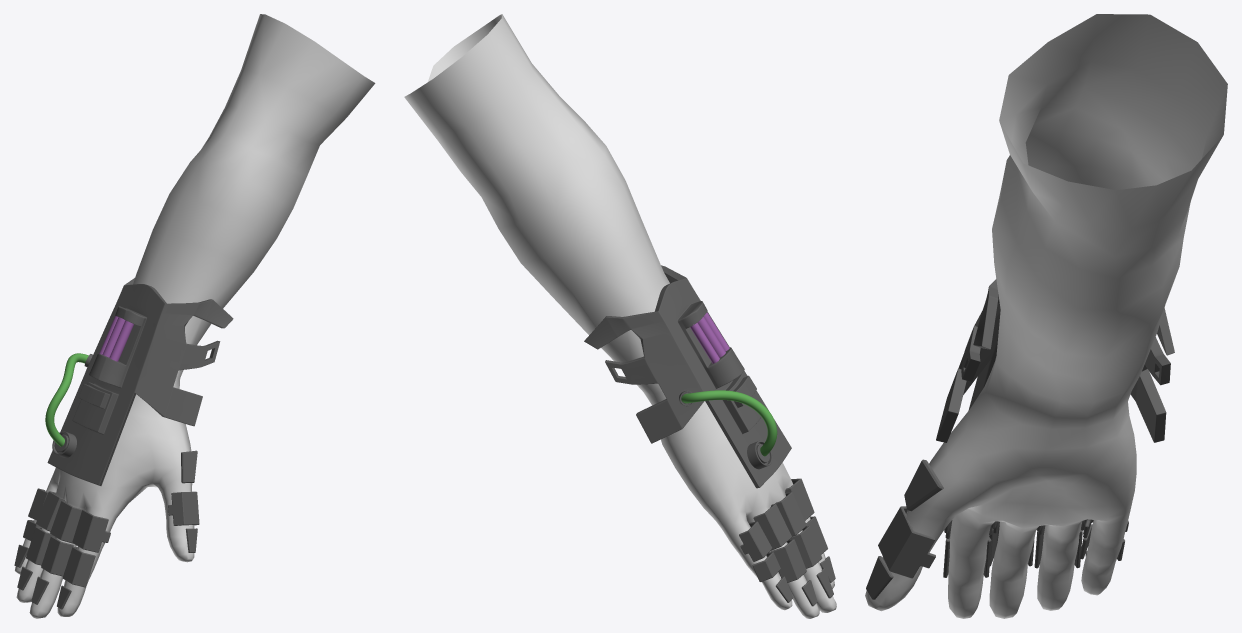
The model's file is Scifi_Glove.fbx.
3 views of the same model, side by side, from view 1: azimuth 30°, elevation 25°; view 2: azimuth 150°, elevation 25°; view 3: azimuth 270°, elevation 25° (orthographic). The views are drawn at different scales.
Visible parts, largest first — view 1: Hand_Base, Wrist_Plate, pPlane1, Tube1, pPlane5, pPlane6, pPlane2, pPlane7, pPlane8, pPlane3, pPlane15; view 2: Hand_Base, Wrist_Plate, Tube1, pPlane3, pPlane8, pPlane4, pPlane2, pPlane7; view 3: Hand_Base, Wrist_Plate, pPlane5, pPlane15, pPlane14.
Boxes of the visible parts, x1=… form: Hand_Base: x1=15, y1=14, x2=375, y2=618; Wrist_Plate: x1=47, y1=278, x2=233, y2=485; pPlane1: x1=72, y1=509, x2=110, y2=552; Tube1: x1=45, y1=353, x2=88, y2=446; pPlane5: x1=168, y1=491, x2=199, y2=525; pPlane6: x1=62, y1=547, x2=95, y2=587; pPlane2: x1=50, y1=500, x2=82, y2=543; pPlane7: x1=41, y1=536, x2=73, y2=576; pPlane8: x1=26, y1=526, x2=53, y2=565; pPlane3: x1=36, y1=491, x2=64, y2=531; pPlane15: x1=181, y1=450, x2=197, y2=483; Hand_Base: x1=404, y1=14, x2=836, y2=618; Wrist_Plate: x1=584, y1=265, x2=791, y2=488; Tube1: x1=681, y1=390, x2=777, y2=456; pPlane3: x1=753, y1=504, x2=791, y2=550; pPlane8: x1=771, y1=539, x2=806, y2=582; pPlane4: x1=739, y1=521, x2=772, y2=561; pPlane2: x1=775, y1=492, x2=806, y2=536; pPlane7: x1=790, y1=526, x2=822, y2=568; Hand_Base: x1=865, y1=14, x2=1227, y2=618; Wrist_Plate: x1=936, y1=279, x2=1174, y2=442; pPlane5: x1=878, y1=506, x2=935, y2=578; pPlane15: x1=904, y1=459, x2=943, y2=511; pPlane14: x1=866, y1=556, x2=893, y2=599.
Size of the model in its own units: 83.08 by 113 by 45.41.
